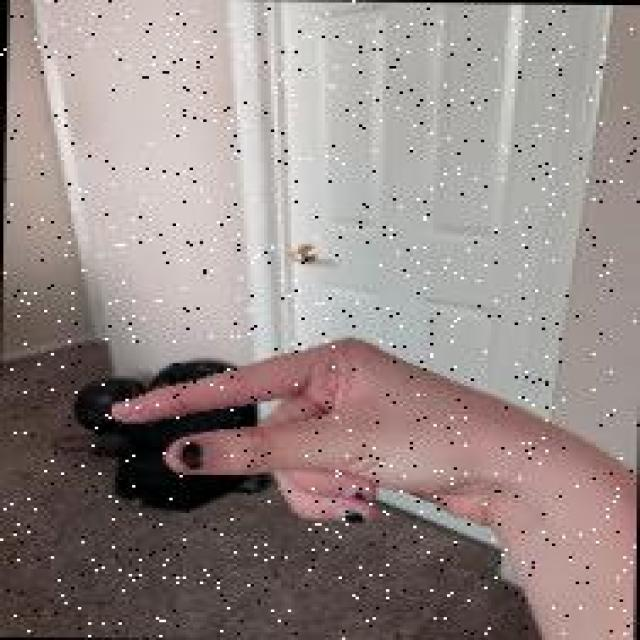G: (93, 328, 571, 551)
